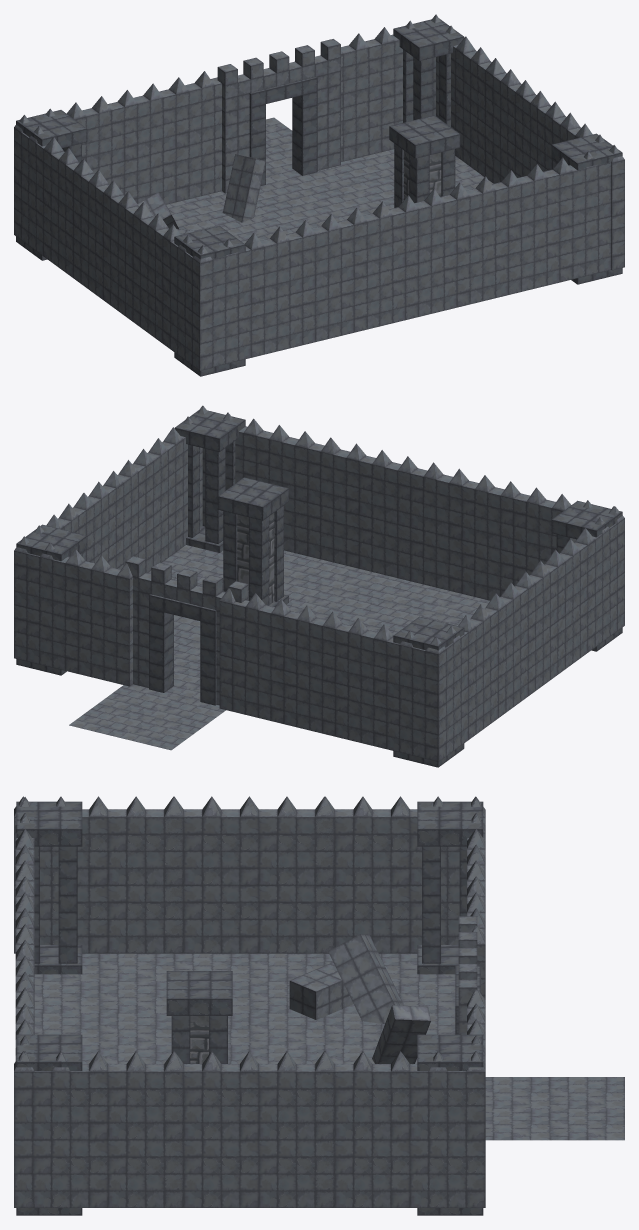
The model's file is GameObject.fbx.
The picture shows the model from 3 angles, top to bottom: view 1: azimuth 30°, elevation 25°; view 2: azimuth 150°, elevation 25°; view 3: azimuth 270°, elevation 25°; orthographic projection. The views are drawn at different scales.
Visible parts, largest first — view 1: Castle_Wall_14__7_, Castle_Wall_14__8_, Castle_Wall_14__5_, Castle_Wall_14__6_, Castle_Gate_4, Castle_Wall_14__3_, Castle_Wall_14__18_, Castle_Wall_14__19_, Castle_Wall_14__20_, Castle_Wall_14__2_, Castle_Wall_14__15_, Castle_Ground_X_Bright_8x8__5_ (+13 smaller); view 2: Castle_Wall_14__3_, Castle_Wall_14__2_, Castle_Wall_14__13_, Castle_Wall_14__8_, Castle_Wall_14__7_, Castle_Gate_4, Castle_Wall_14__19_, Castle_Wall_14__20_, Castle_Wall_14__18_, Castle_Tower_1__1_, Castle_Ground_X_Bright_8x8__13_, Castle_Tower_1_Empty__1_ (+13 smaller); view 3: Castle_Wall_14__14_, Castle_Wall_14__19_, Castle_Wall_14__15_, Castle_Wall_14__17_, Castle_Wall_14__18_, Castle_Wall_14__20_, Castle_Ground_X_Bright_8x8__13_, Castle_Ground_X_Bright_8x8__11_, Castle_Tower_1_Empty__3_, Castle_Tower_1_Empty__4_, Castle_Tower_1__1_, Castle_Ground_X_Bright_8x8__8_ (+17 smaller).
Boxes of the visible parts, <box> form: Castle_Wall_14__7_: <box>297,195,418,341</box>; Castle_Wall_14__8_: <box>399,170,521,318</box>; Castle_Wall_14__5_: <box>193,220,315,366</box>; Castle_Wall_14__6_: <box>507,145,614,294</box>; Castle_Gate_4: <box>217,39,340,193</box>; Castle_Wall_14__3_: <box>124,71,239,204</box>; Castle_Wall_14__18_: <box>133,202,212,370</box>; Castle_Wall_14__19_: <box>73,159,142,326</box>; Castle_Wall_14__20_: <box>14,115,83,281</box>; Castle_Wall_14__2_: <box>341,14,435,161</box>; Castle_Wall_14__15_: <box>485,58,554,183</box>; Castle_Ground_X_Bright_8x8__5_: <box>256,165,391,228</box>; Castle_Wall_14__3_: <box>219,588,342,736</box>; Castle_Wall_14__2_: <box>14,536,132,686</box>; Castle_Wall_14__13_: <box>322,611,438,761</box>; Castle_Wall_14__8_: <box>295,432,410,580</box>; Castle_Wall_14__7_: <box>397,456,513,600</box>; Castle_Gate_4: <box>125,556,248,705</box>; Castle_Wall_14__19_: <box>496,549,565,715</box>; Castle_Wall_14__20_: <box>435,593,505,761</box>; Castle_Wall_14__18_: <box>555,506,624,670</box>; Castle_Tower_1__1_: <box>218,477,288,606</box>; Castle_Ground_X_Bright_8x8__13_: <box>69,684,225,750</box>; Castle_Tower_1_Empty__1_: <box>174,410,245,552</box>; Castle_Wall_14__14_: <box>14,1051,182,1207</box>; Castle_Wall_14__19_: <box>165,796,333,953</box>; Castle_Wall_14__15_: <box>165,1051,333,1207</box>; Castle_Wall_14__17_: <box>316,1051,484,1207</box>; Castle_Wall_14__18_: <box>14,796,182,953</box>; Castle_Wall_14__20_: <box>316,796,475,953</box>; Castle_Ground_X_Bright_8x8__13_: <box>485,1077,624,1140</box>; Castle_Ground_X_Bright_8x8__11_: <box>34,953,174,1013</box>; Castle_Tower_1_Empty__3_: <box>16,801,82,974</box>; Castle_Tower_1_Empty__4_: <box>417,801,483,974</box>; Castle_Tower_1__1_: <box>166,971,232,1063</box>; Castle_Ground_X_Bright_8x8__8_: <box>34,1013,171,1063</box>.
Bounding box in the file's own units: 2479 × 786 × 2438.
